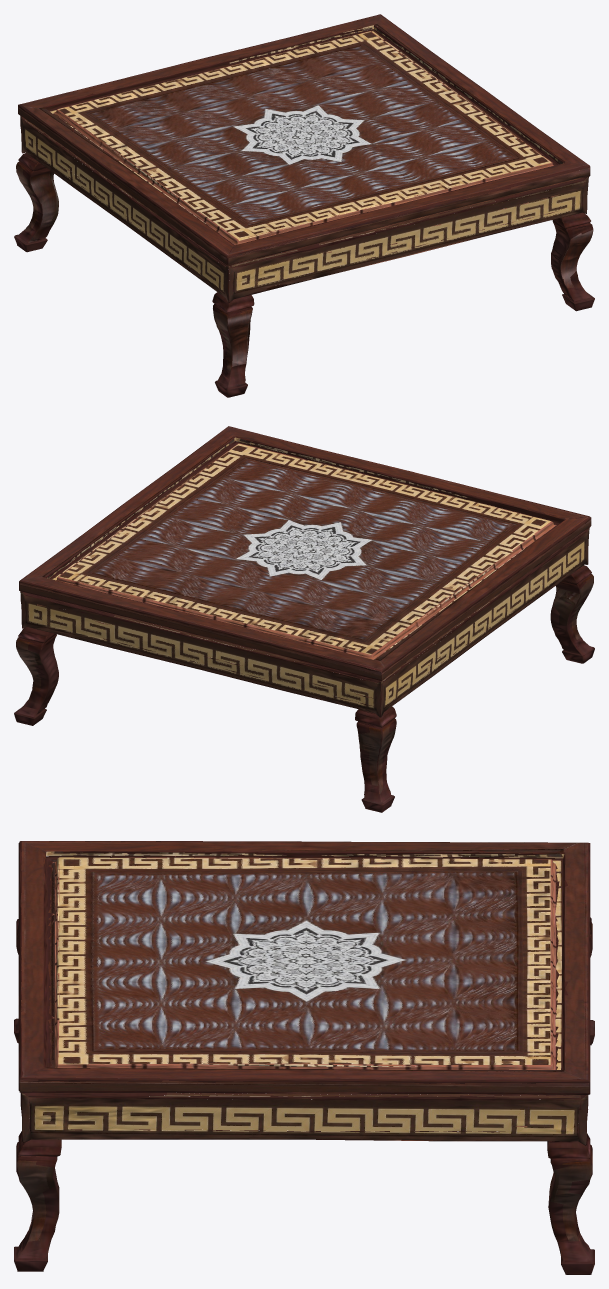
The picture shows the model from 3 angles, top to bottom: view 1: azimuth 30°, elevation 25°; view 2: azimuth 150°, elevation 25°; view 3: azimuth 270°, elevation 25°; orthographic projection. The views are drawn at different scales.
Parts seen in each view (by area): view 1: product; view 2: product; view 3: product.
Boxes of the visible parts, x1,y1,x2,y2 form: product: (14,14,594,397); product: (14,426,594,812); product: (14,841,594,1274).
Size of the model in its own units: 1.2 by 0.45 by 1.2.
8 materials, 8 textured.
